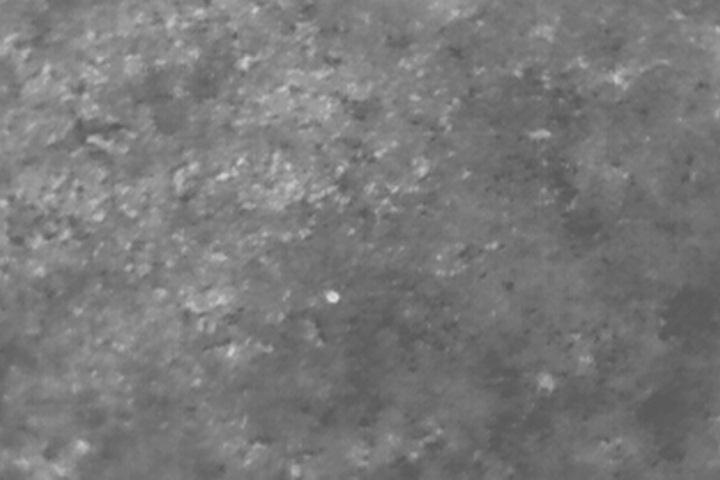landmine: (323, 289, 343, 306)
